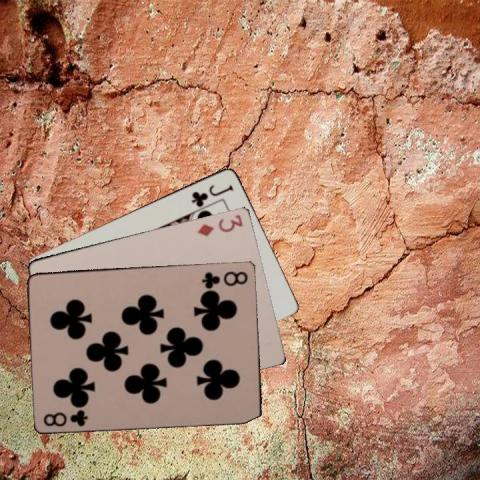3d: (194, 212, 245, 238)
8c: (41, 407, 89, 428), (200, 268, 250, 287)
Jc: (188, 180, 235, 206)
